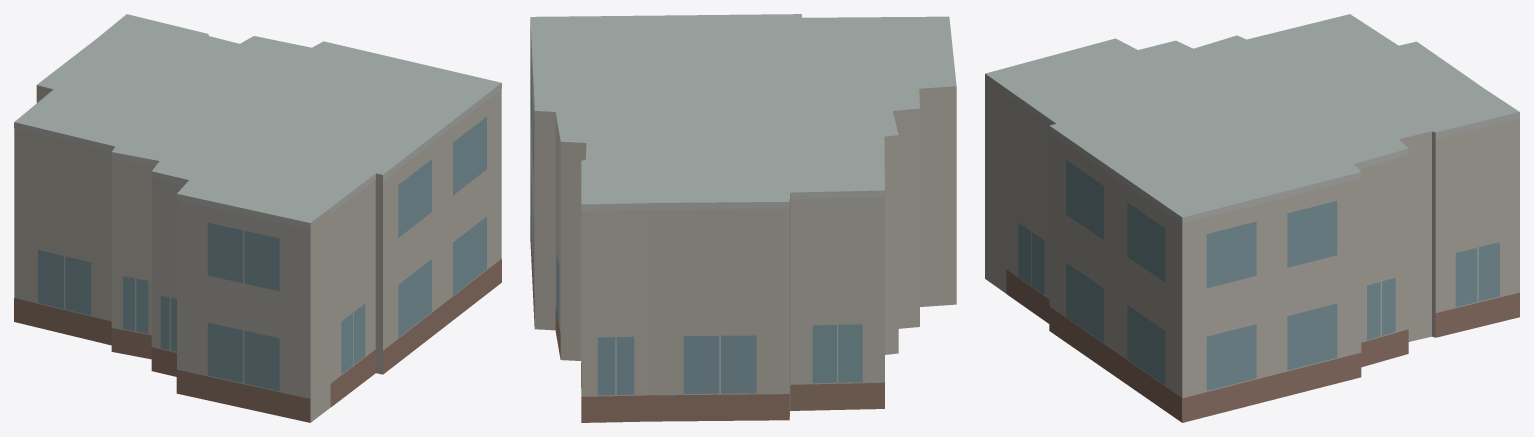
File: survey-upis-32616197.glb
3 renders of one model, left to right at view 1: azimuth 30°, elevation 25°; view 2: azimuth 150°, elevation 25°; view 3: azimuth 270°, elevation 25°, orthographic. The views are drawn at different scales.
Visible parts, largest first — view 1: survey-upis-32616197.tmp; view 2: survey-upis-32616197.tmp; view 3: survey-upis-32616197.tmp.
Part boxes in pixels (x1,y1,x2,y2): survey-upis-32616197.tmp: (14,14,501,422); survey-upis-32616197.tmp: (530,14,956,422); survey-upis-32616197.tmp: (985,14,1519,422).
Size of the model in its own units: 16.6 by 7.8 by 18.42.
